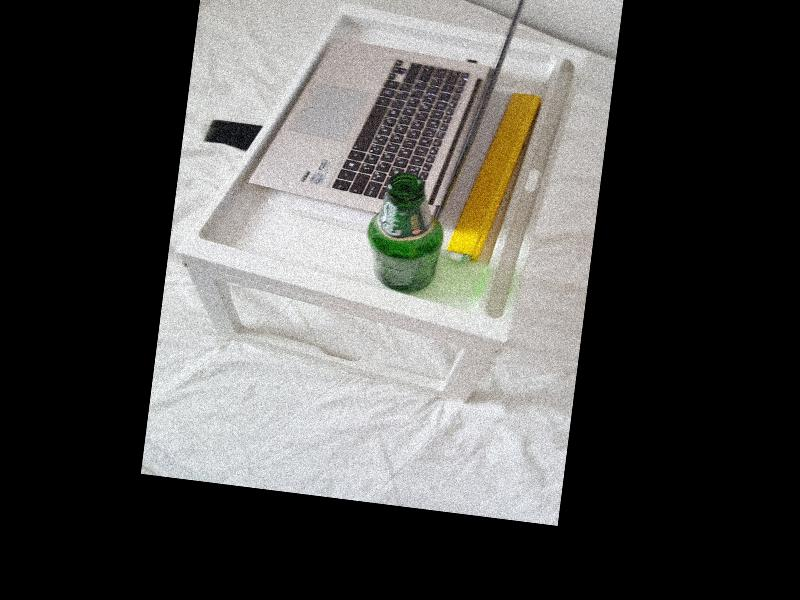Beer: (362, 170, 449, 296)
